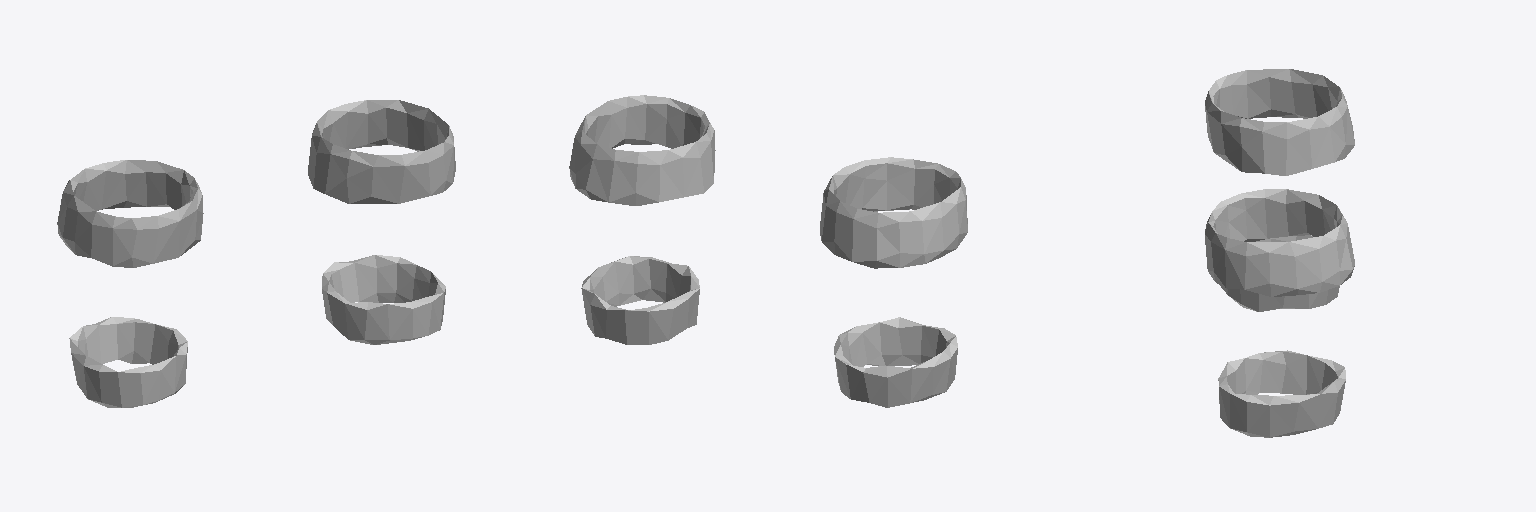
Rendered from Leg bands.OBJ.
3 views of the same model, side by side, from view 1: azimuth 30°, elevation 25°; view 2: azimuth 150°, elevation 25°; view 3: azimuth 270°, elevation 25° (orthographic).
Visible parts, largest first — view 1: Group64374; view 2: Group64374; view 3: Group64374.
Part boxes in pixels (bbox=[...]): Group64374: bbox=[57, 100, 455, 407]; Group64374: bbox=[569, 95, 967, 407]; Group64374: bbox=[1205, 69, 1354, 437].
Bounding box in the file's own units: 54.33 × 28.05 × 19.02.